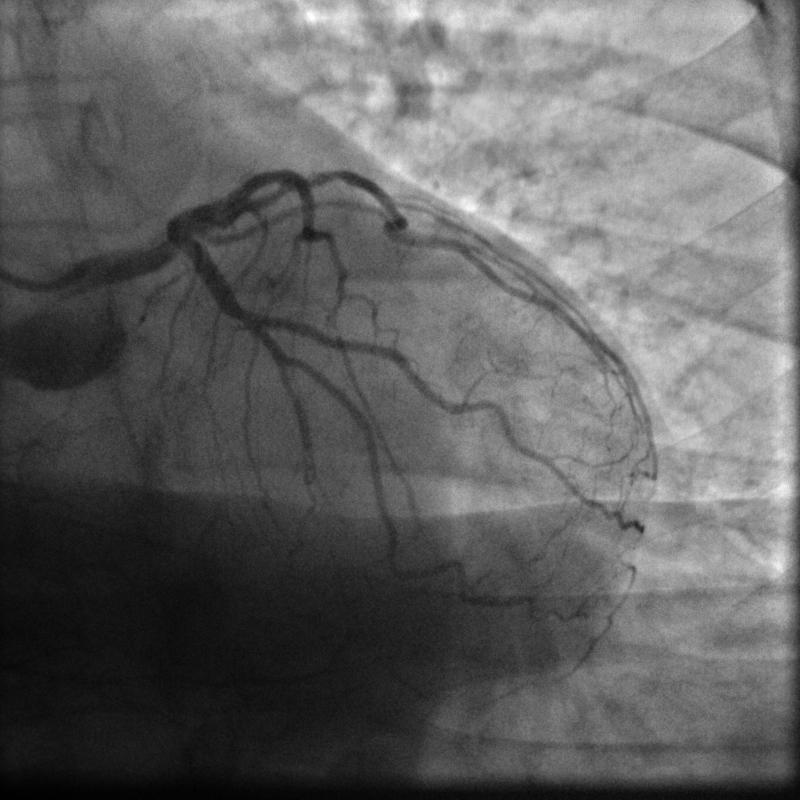Stenosis: (231, 285, 261, 345)
